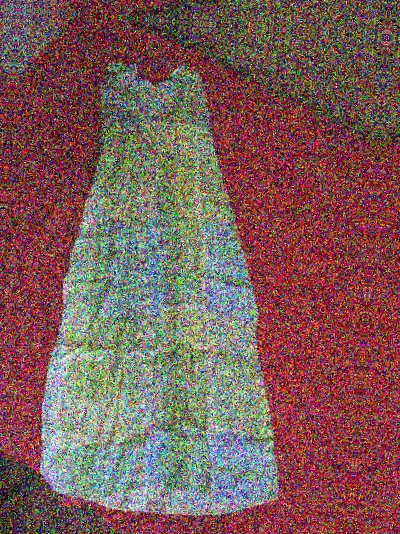Dress: (5, 36, 338, 534), (45, 0, 378, 9), (396, 66, 400, 534)
